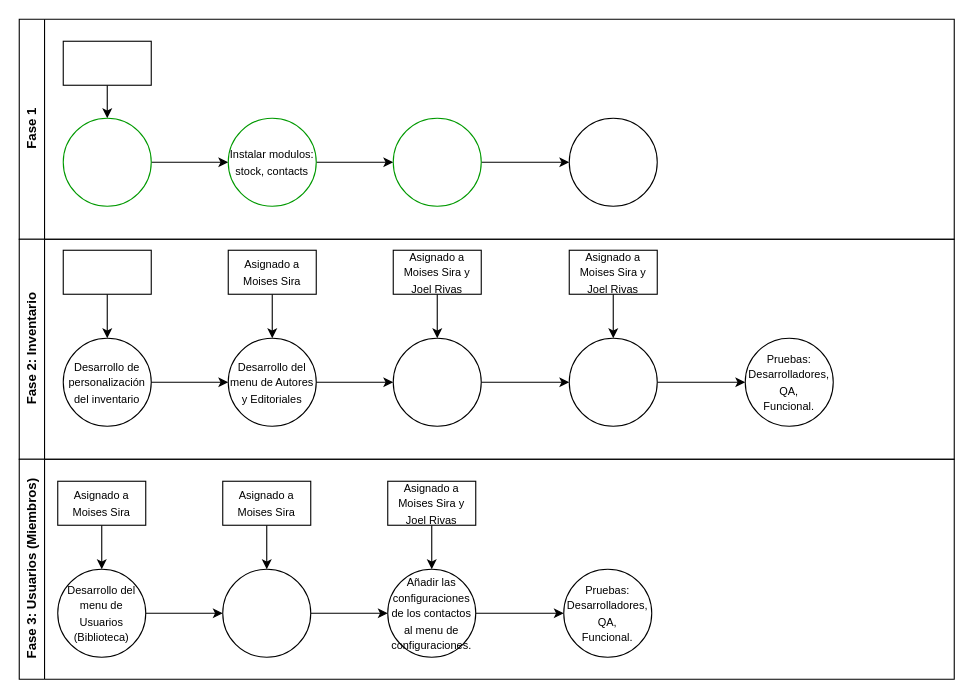
Some shapes in this 974 by 699 pixel diagram are drawn without their labels. Here are the shapes that lost their labels. From the top down, the centre of each, then its label:
point (106, 62): Acceso a Moises Sira
point (106, 161): Crear Instancia "prueba1212"
point (436, 161): Configurar stock
point (612, 161): Copiar o generar grupos y accesos para los usuarios.
point (106, 271): Asignado a Joel Rivas
point (436, 381): Desarrollo del menu de "Configuraciones"
point (612, 381): Validaciones de los campos y datos creados .
point (266, 612): Añadir campos personalizados al modulo "contacts"
